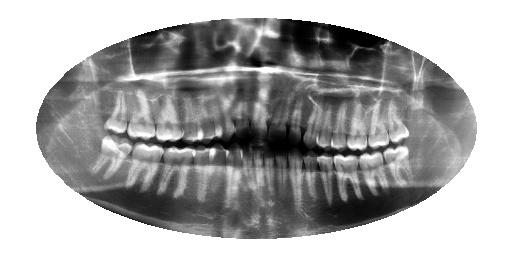Cavity: (266, 84, 297, 142), (231, 81, 251, 138), (302, 148, 319, 198), (275, 149, 289, 202), (264, 149, 276, 203)
Fillings: (384, 100, 411, 145)
